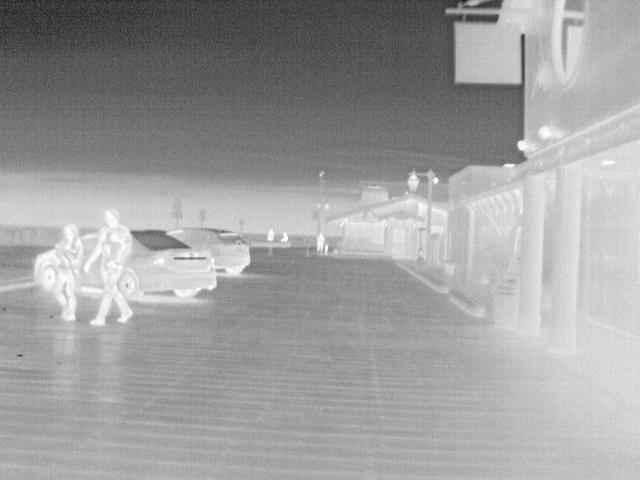car: (117, 225, 216, 302), (160, 228, 254, 277), (34, 246, 58, 290)
person: (84, 206, 135, 326), (56, 222, 84, 324), (314, 233, 327, 253), (275, 228, 291, 242), (264, 227, 278, 242)
